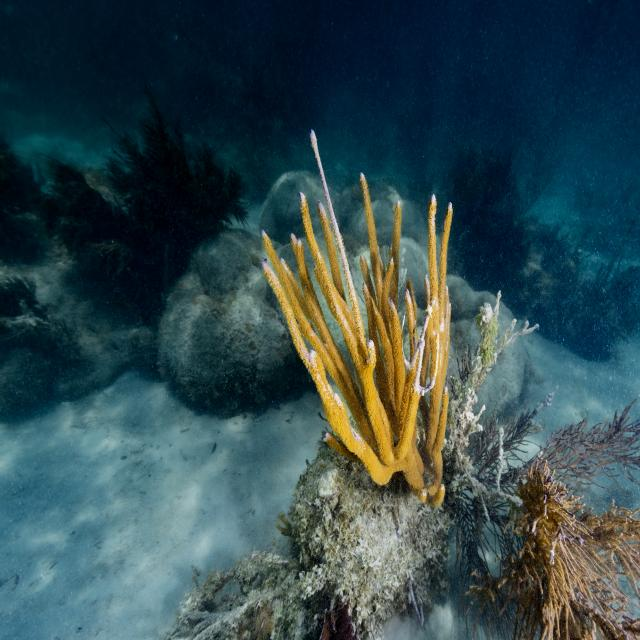Coral: (261, 128, 453, 507), (466, 459, 640, 640)
